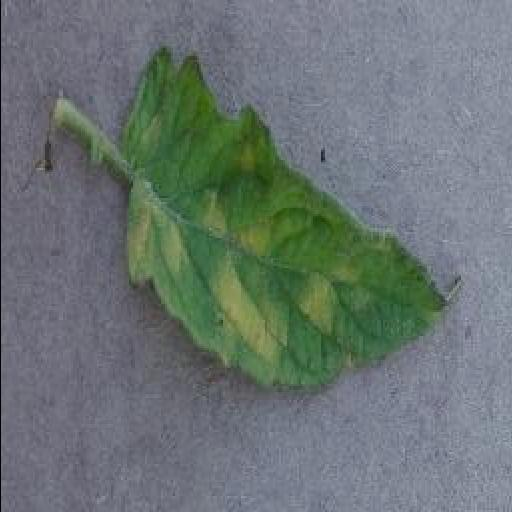disease_tomato: (124, 50, 466, 391)
